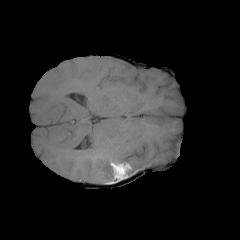glioma: (81, 140, 148, 184)
